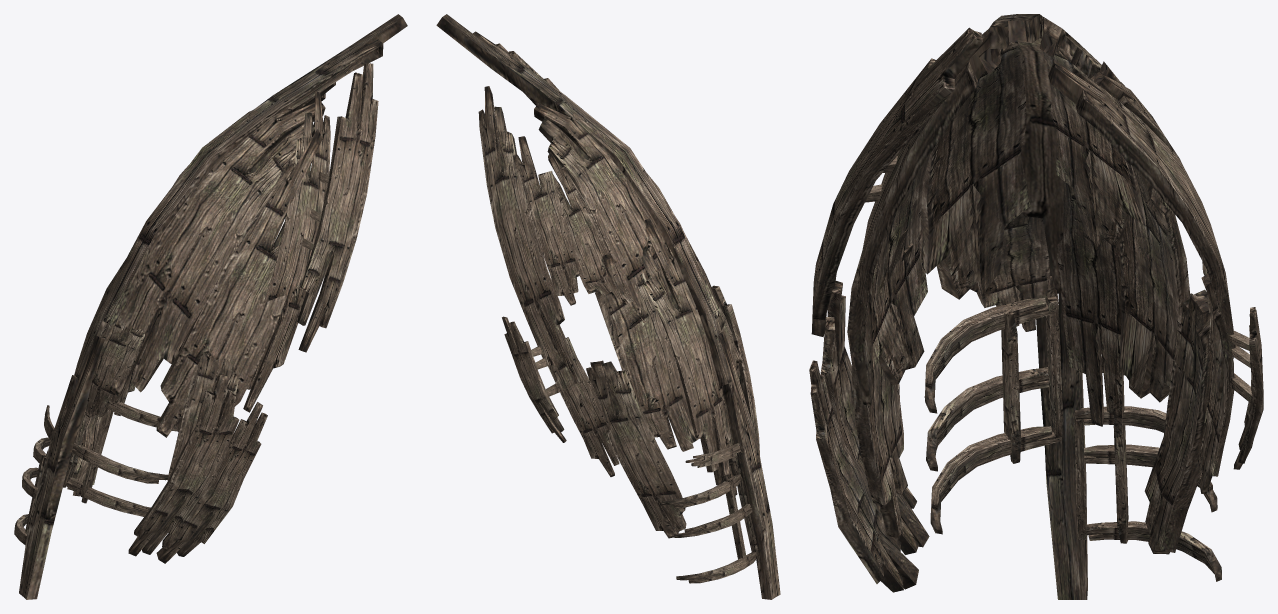
Rendered from d_sg_shouyou_chuan04_qt.FBX.
The picture shows the model from 3 angles, left to right: view 1: azimuth 30°, elevation 25°; view 2: azimuth 150°, elevation 25°; view 3: azimuth 270°, elevation 25°; orthographic projection. The views are drawn at different scales.
Visible parts, largest first — view 1: d_sg_shouyou_chuan01_qt; view 2: d_sg_shouyou_chuan01_qt; view 3: d_sg_shouyou_chuan01_qt.
Boxes of the visible parts, <box> form: d_sg_shouyou_chuan01_qt: <box>14,14,407,599</box>; d_sg_shouyou_chuan01_qt: <box>436,14,780,599</box>; d_sg_shouyou_chuan01_qt: <box>809,14,1263,599</box>.
Size of the model in its own units: 6020 by 7931 by 3730.
